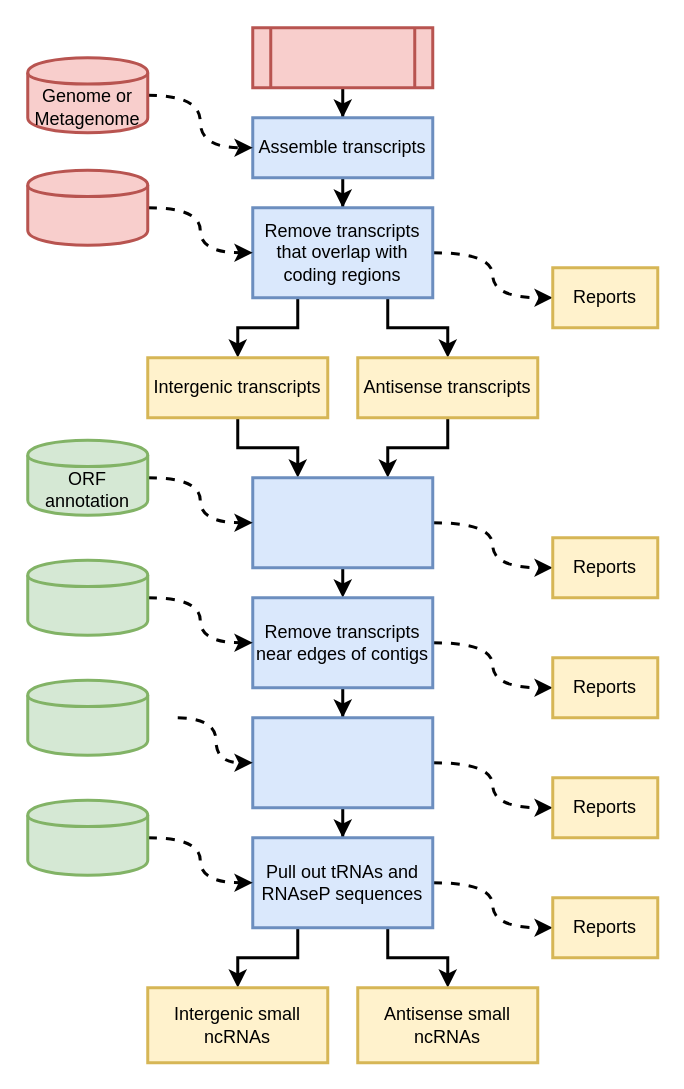
This 684x1089 diagram has some shape labels left out. The shapes that lost their labels are listed below. From the top down, each one's centre as x and y in pixels, then its label:
the point at 342,57: RNAseq data
the point at 87,207: Gene/ORF Annotation
the point at 342,522: Remove transcripts with significant ORFs
the point at 87,597: Enrichment training
the point at 87,717: NCBI nr database
the point at 342,762: Pull out sequences with homology to known proteins
the point at 87,837: Rfam darabase
